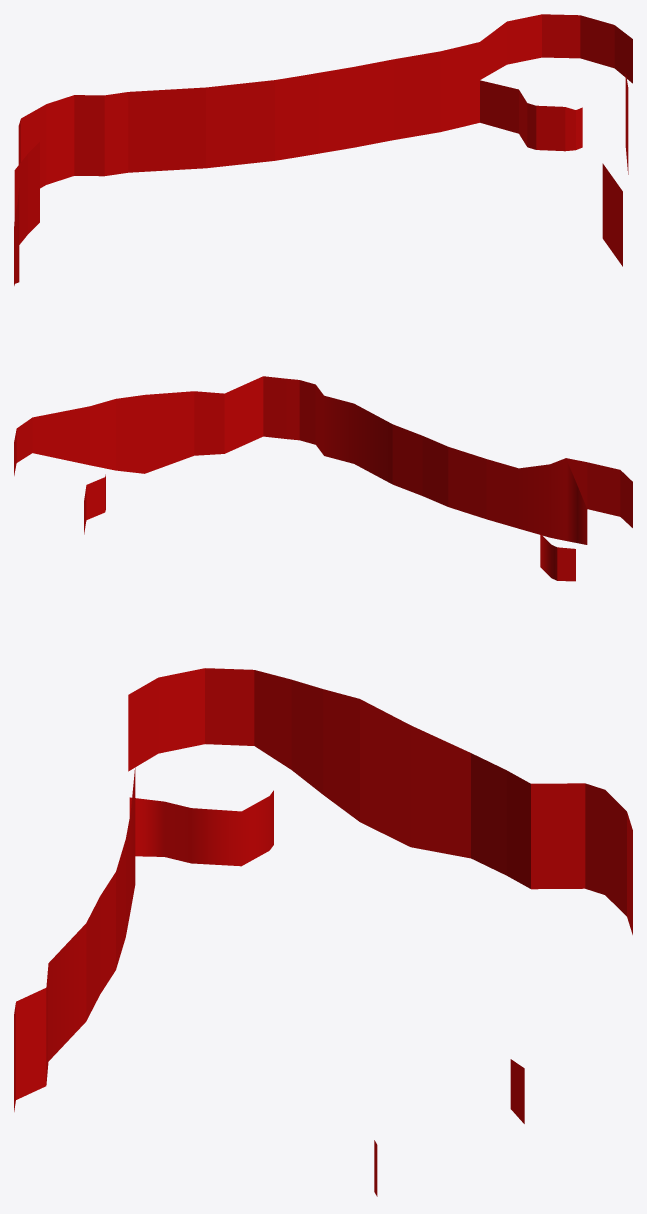
The model's file is gltf__Models__map__Forest__peterPan__peterPan_mergedCollision_wall.glb.
The picture shows the model from 3 angles, top to bottom: view 1: azimuth 30°, elevation 25°; view 2: azimuth 150°, elevation 25°; view 3: azimuth 270°, elevation 25°; orthographic projection. The views are drawn at different scales.
Parts seen in each view (by area): view 1: peterPan_mergedCollision_wall; view 2: peterPan_mergedCollision_wall; view 3: peterPan_mergedCollision_wall.
Part boxes in pixels (x1=…): peterPan_mergedCollision_wall: x1=14, y1=14, x2=632, y2=285; peterPan_mergedCollision_wall: x1=14, y1=376, x2=632, y2=581; peterPan_mergedCollision_wall: x1=14, y1=668, x2=632, y2=1196.
Bounding box in the file's own units: 23.31 × 3.77 × 14.17.
